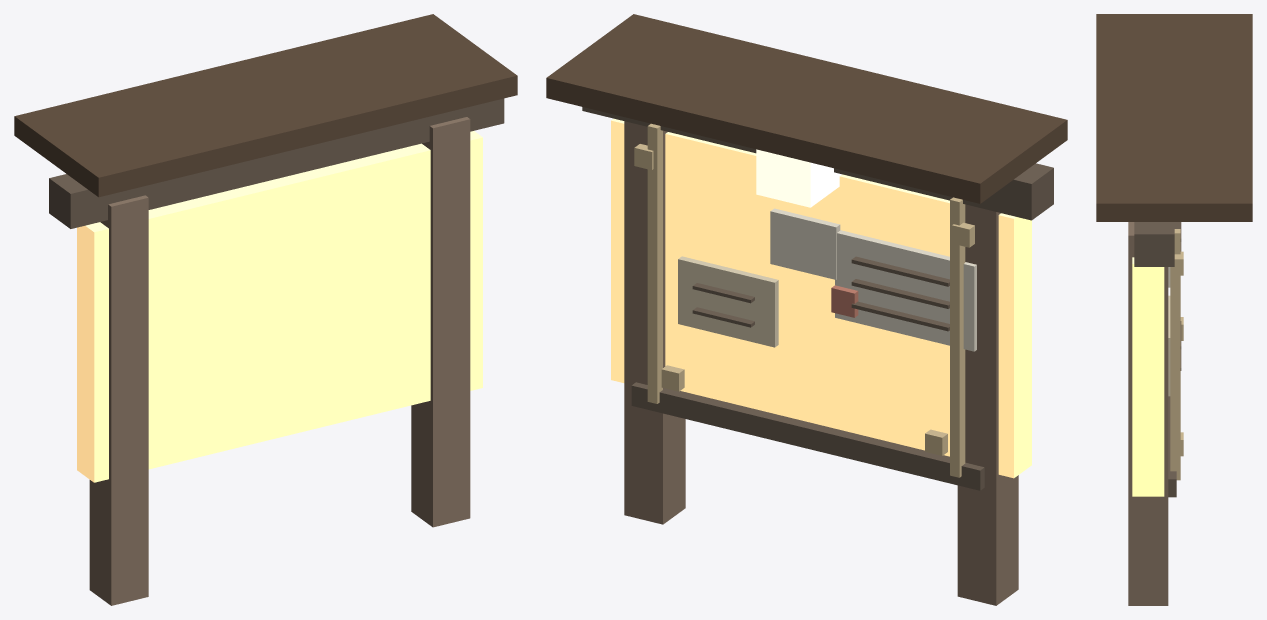
Rendered from jobBoard_hero.glb.
The picture shows the model from 3 angles, left to right: view 1: azimuth 30°, elevation 25°; view 2: azimuth 150°, elevation 25°; view 3: azimuth 270°, elevation 25°; orthographic projection. The views are drawn at different scales.
Visible parts, largest first — view 1: jobBoard_hero; view 2: jobBoard_hero; view 3: jobBoard_hero.
Boxes of the visible parts, x1,y1,x2,y2 form: jobBoard_hero: (14, 14, 517, 605); jobBoard_hero: (546, 14, 1067, 605); jobBoard_hero: (1096, 14, 1252, 605).
Size of the model in its own units: 2.32 by 2.29 by 0.78.
